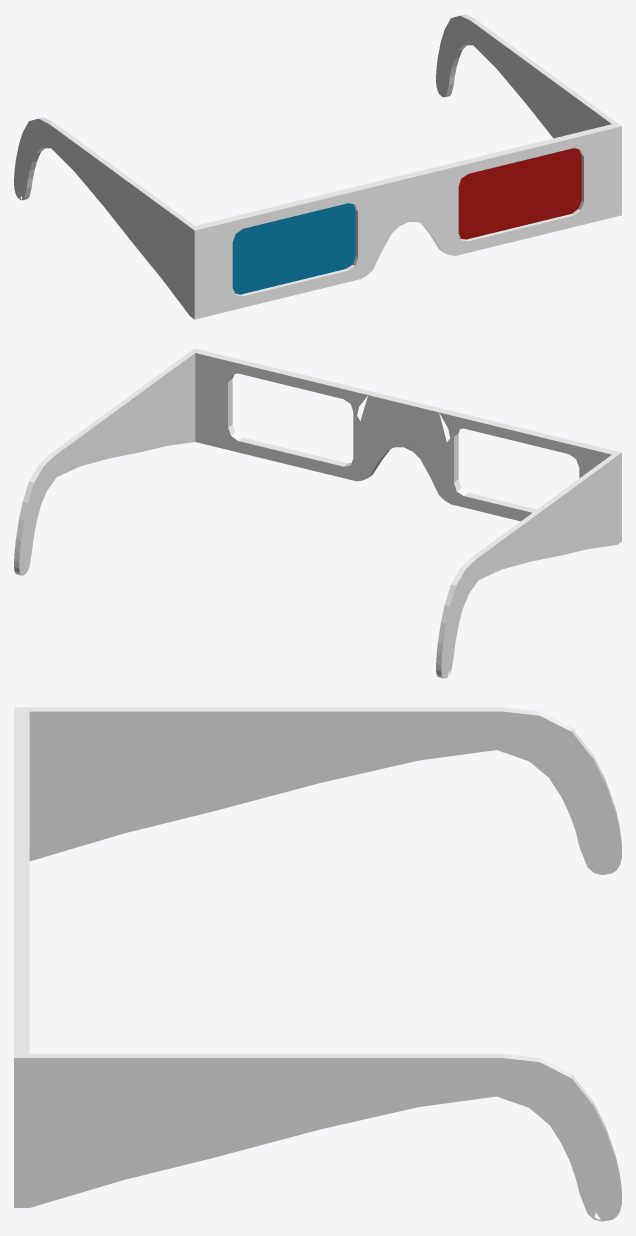
The model's file is 3d-glasses_v10.glb.
The picture shows the model from 3 angles, top to bottom: view 1: azimuth 30°, elevation 25°; view 2: azimuth 150°, elevation 25°; view 3: azimuth 270°, elevation 25°; orthographic projection. The views are drawn at different scales.
Visible parts, largest first — view 1: anaglyph_glass_pCube5.1, anaglyph_glass_pPlane2.3, pPlane1_anaglyph_glass.3; view 2: anaglyph_glass_pCube5.1; view 3: anaglyph_glass_pCube5.1.
Boxes of the visible parts, box(x1,y1,x2,y2) form: anaglyph_glass_pCube5.1: box(14, 14, 621, 319); anaglyph_glass_pPlane2.3: box(232, 203, 355, 294); pPlane1_anaglyph_glass.3: box(458, 148, 581, 239); anaglyph_glass_pCube5.1: box(14, 348, 621, 678); anaglyph_glass_pCube5.1: box(14, 707, 621, 1221).
Size of the model in its own units: 0.0927 by 0.0201 by 0.0679.
5 materials, 5 textured.
